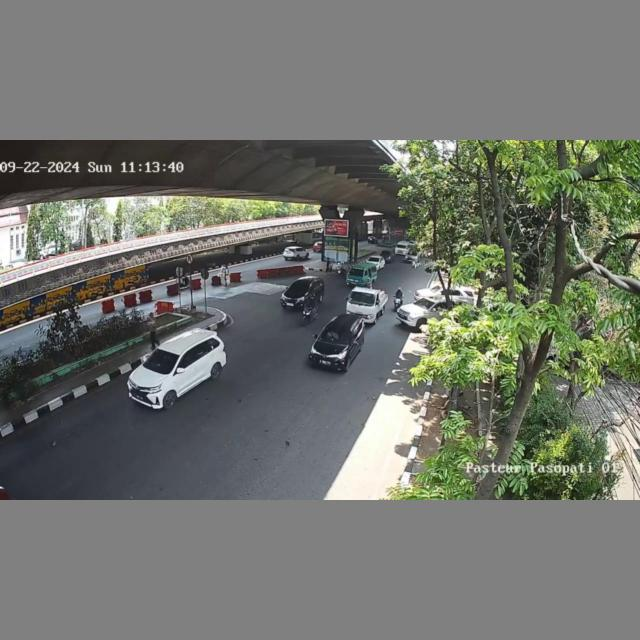windshield: (145, 348, 182, 369), (317, 328, 353, 345), (350, 291, 375, 307), (289, 281, 310, 293), (347, 267, 366, 277)
